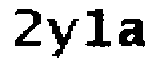1: (81, 4, 114, 51)
2: (11, 7, 44, 48)
a: (118, 16, 147, 51)
y: (44, 13, 80, 60)
